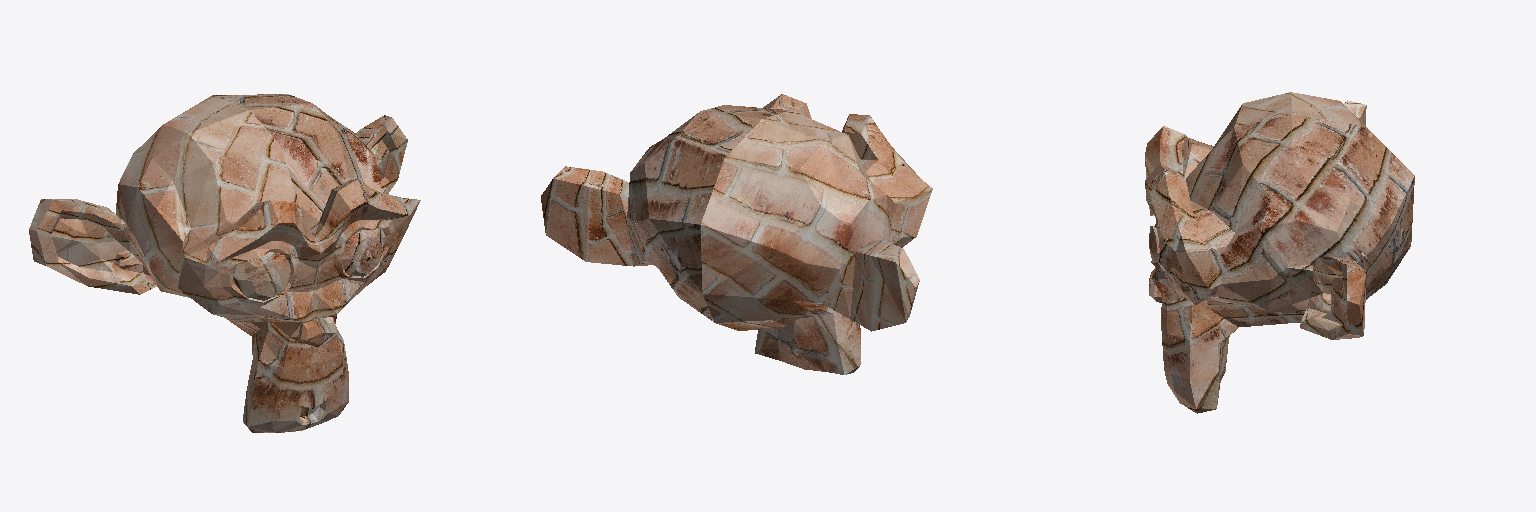
The picture shows the model from 3 angles: view 1: azimuth 30°, elevation 25°; view 2: azimuth 150°, elevation 25°; view 3: azimuth 270°, elevation 25°; orthographic projection.
Visible parts, largest first — view 1: Suzanne; view 2: Suzanne; view 3: Suzanne.
Part boxes in pixels (x1,y1,x2,y2): Suzanne: (29,94,420,432); Suzanne: (541,94,932,374); Suzanne: (1145,92,1414,413).
Size of the model in its own units: 2.73 by 1.97 by 1.7.
Materials: 1 (1 with a texture image).